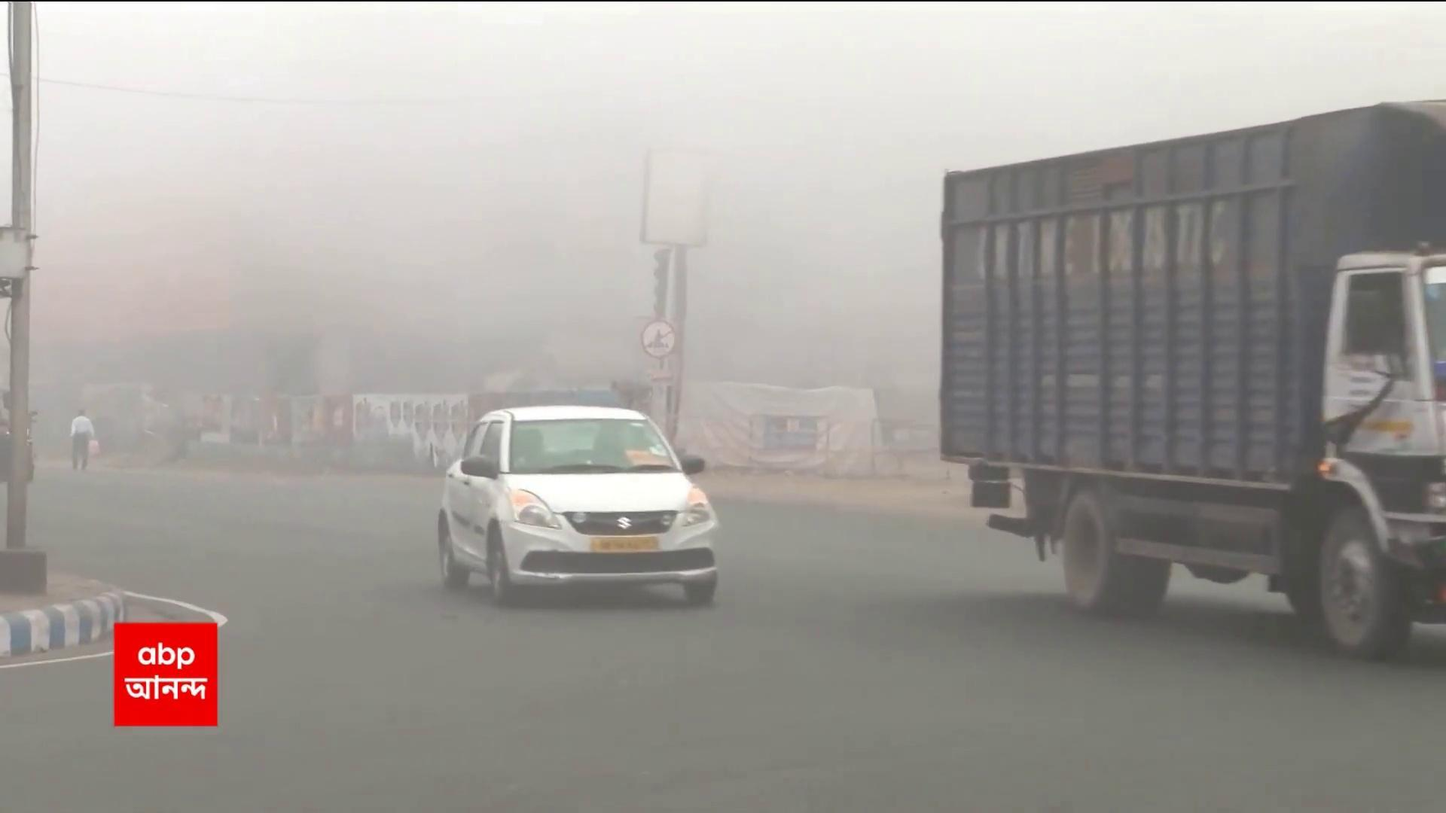Car: (431, 400, 723, 609)
Truck: (943, 106, 1446, 656)
